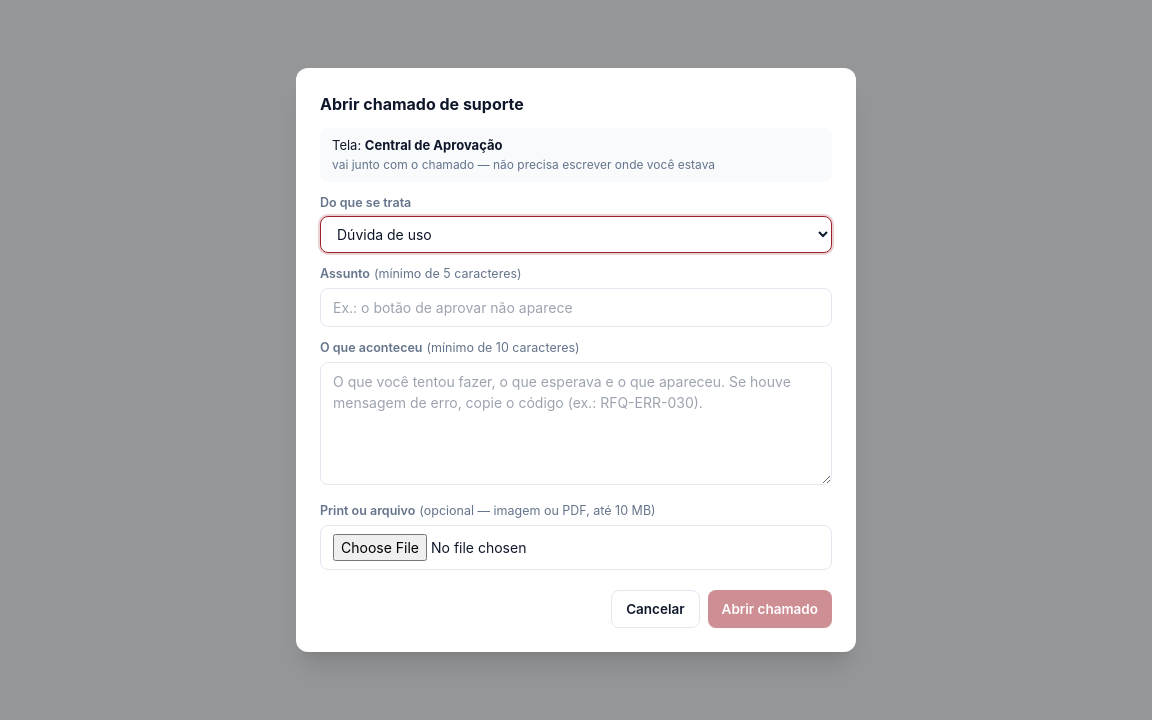
Test: <DialogoDeSuporte /> › a recusa do servidor aparece no diálogo, que continua aberto
The width and height of the screenshot is (1152, 720).
Type "Não consigo aprovar" into the field labelled "Assunto(mínimo de 5 caracteres)".
click(576, 308); type("Não consigo aprovar")  # box top-left (320, 288), bottom-right (832, 327)
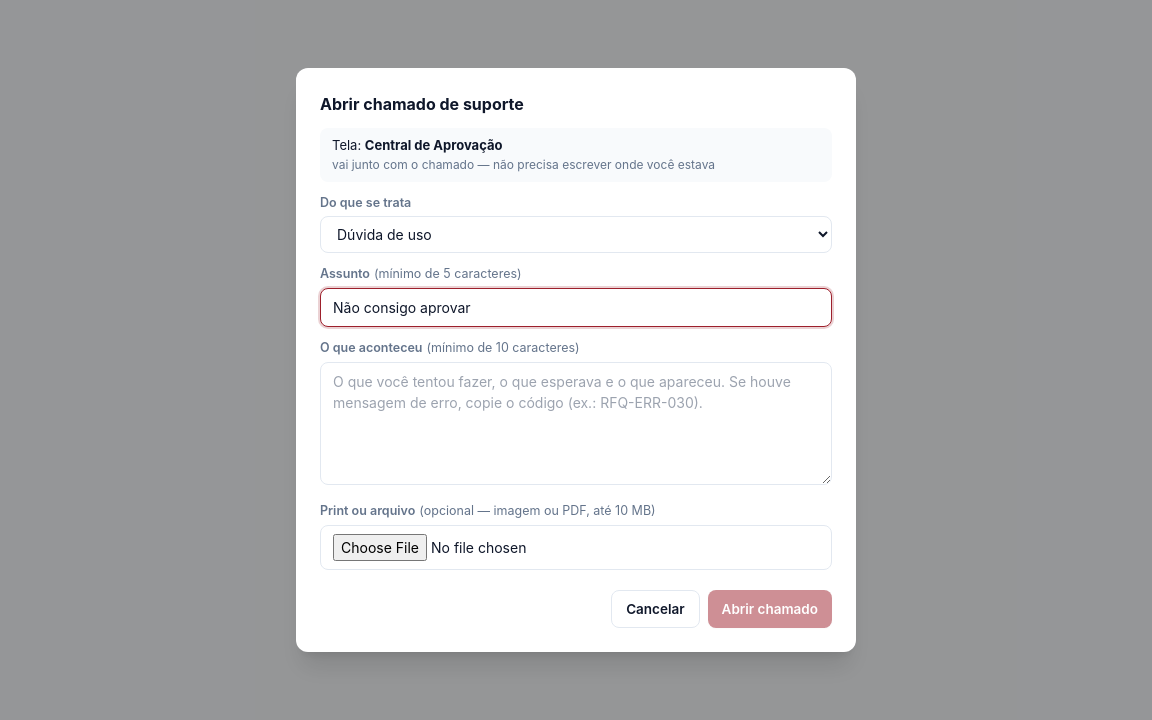
Type "aaaaaaaaaaaa" into the text box labelled "O que aconteceu(mínimo de 10 caracteres)".
click(576, 423); type("aaaaaaaaaaaa")  # box top-left (320, 362), bottom-right (832, 485)
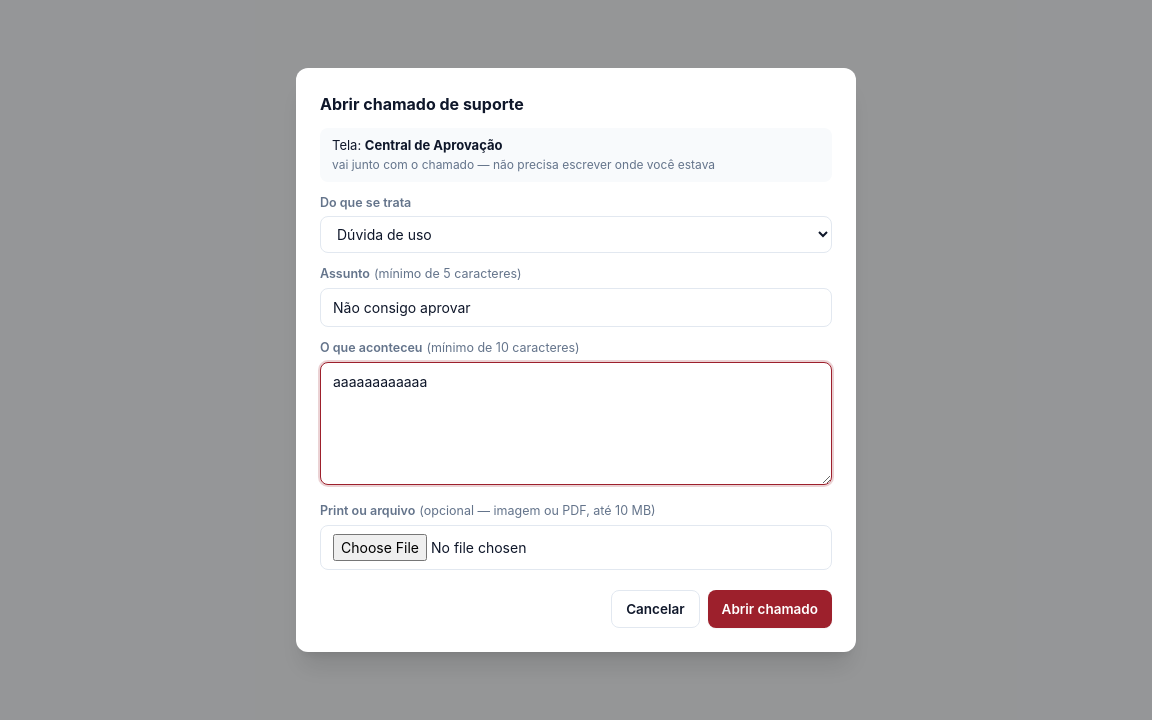
Click the button "Abrir chamado".
click(770, 609)  # box top-left (708, 590), bottom-right (832, 628)
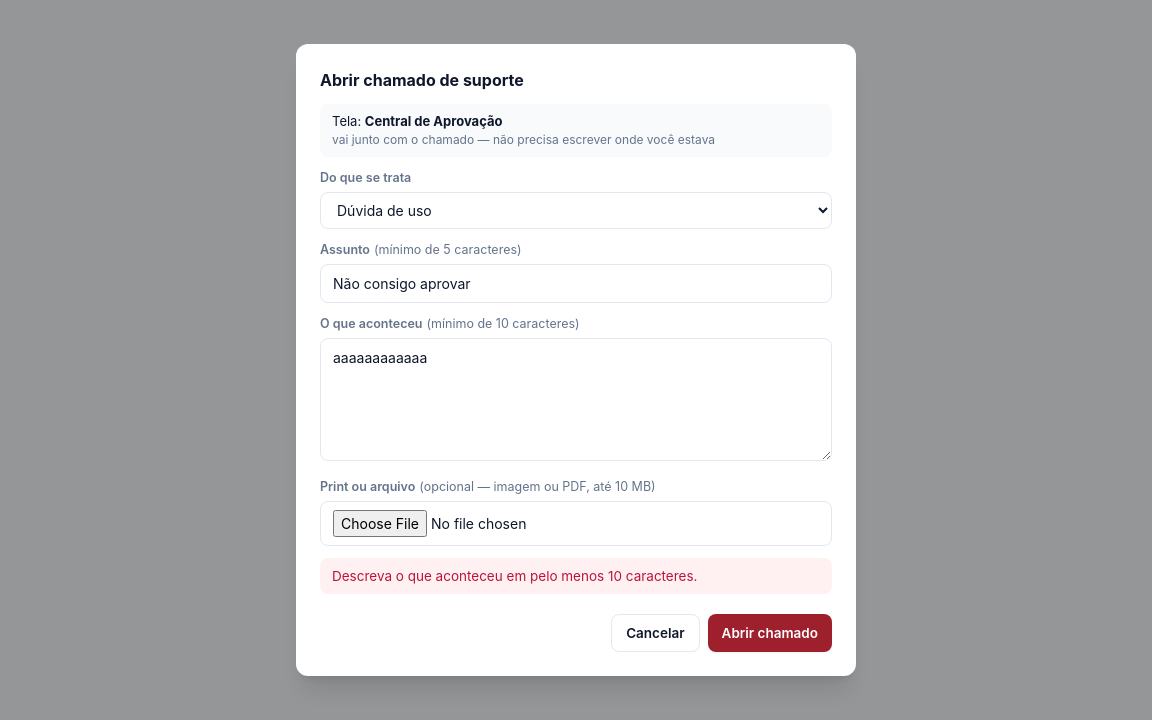
expect the dialog "Abrir chamado de suporte" is shown: met, box top-left (296, 44), bottom-right (856, 676)
expect the message shows "pelo menos 10 caracteres": met, box top-left (332, 568), bottom-right (698, 584)
